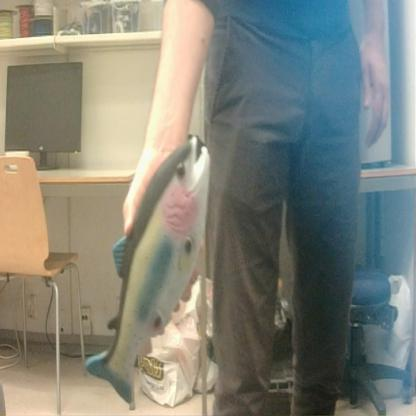rubberfish: (83, 127, 220, 412)
